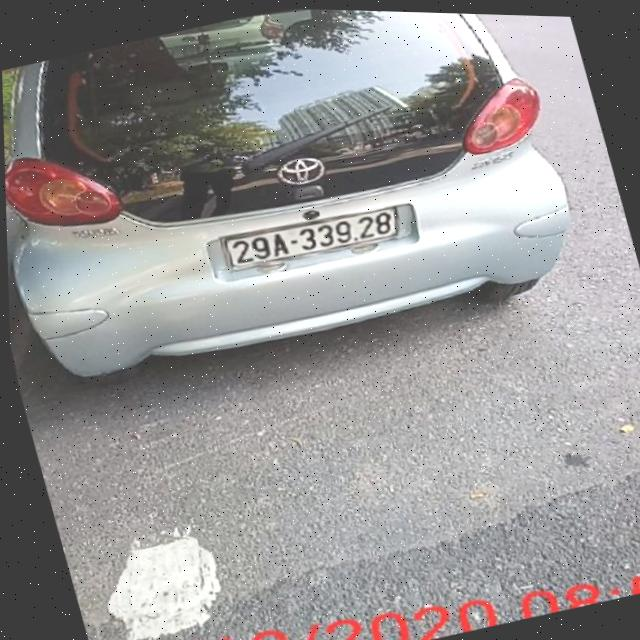car: (0, 0, 602, 419)
plate: (215, 188, 409, 285)
